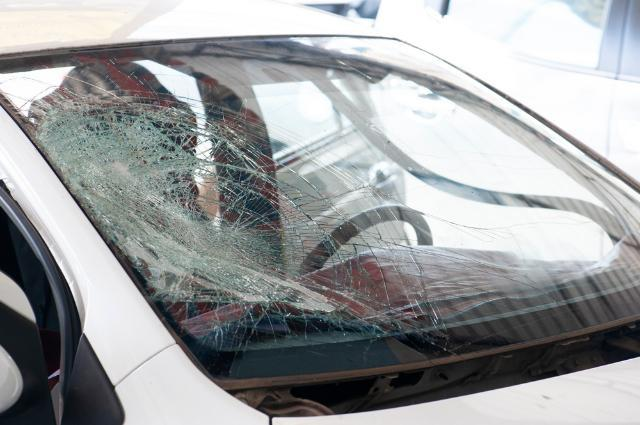glass shatter: (0, 37, 640, 381)
